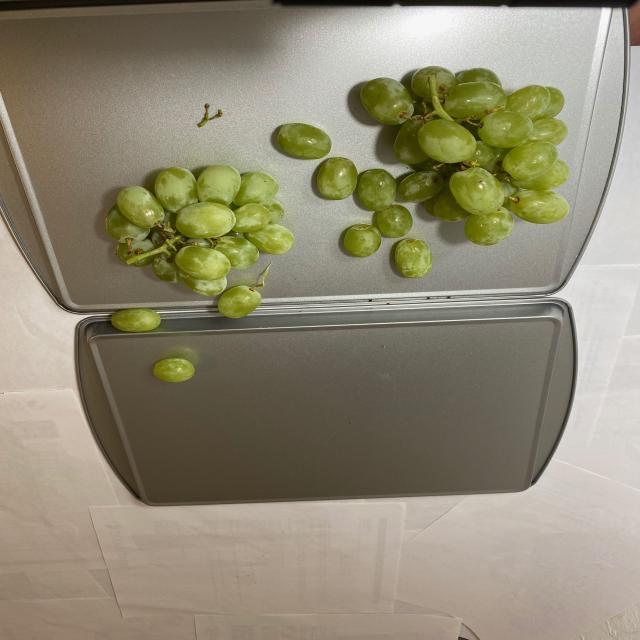grapes: (107, 62, 574, 383)
